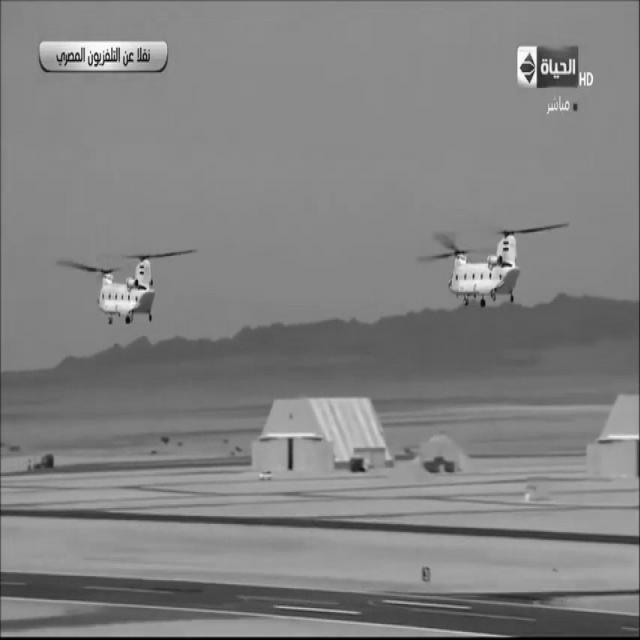helikopter: (430, 208, 551, 318), (62, 242, 190, 334)
